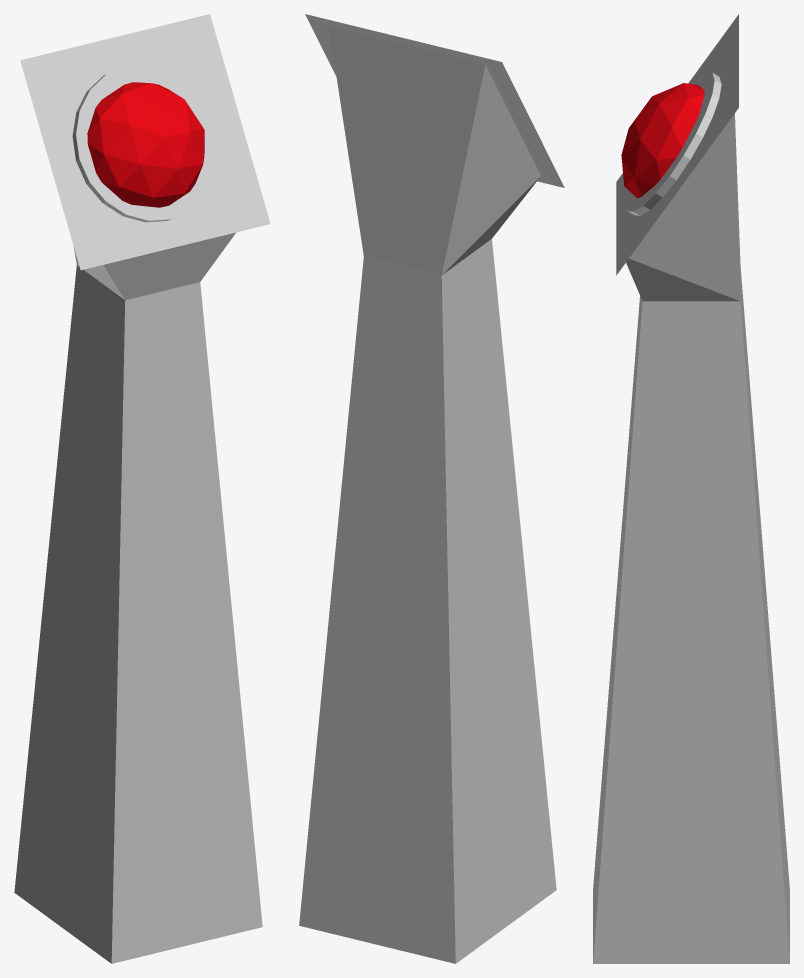
The model's file is Button_01.dae.
3 renders of one model, left to right at view 1: azimuth 30°, elevation 25°; view 2: azimuth 150°, elevation 25°; view 3: azimuth 270°, elevation 25°, orthographic. The views are drawn at different scales.
Parts seen in each view (by area): view 1: Circle; view 2: Circle; view 3: Circle.
Part boxes in pixels (left/top/right/bottom): Circle: left=14, top=14, right=270, bottom=963; Circle: left=299, top=14, right=564, bottom=963; Circle: left=593, top=14, right=789, bottom=963.
Bounding box in the file's own units: 0.1618 × 0.1435 × 0.6964.
